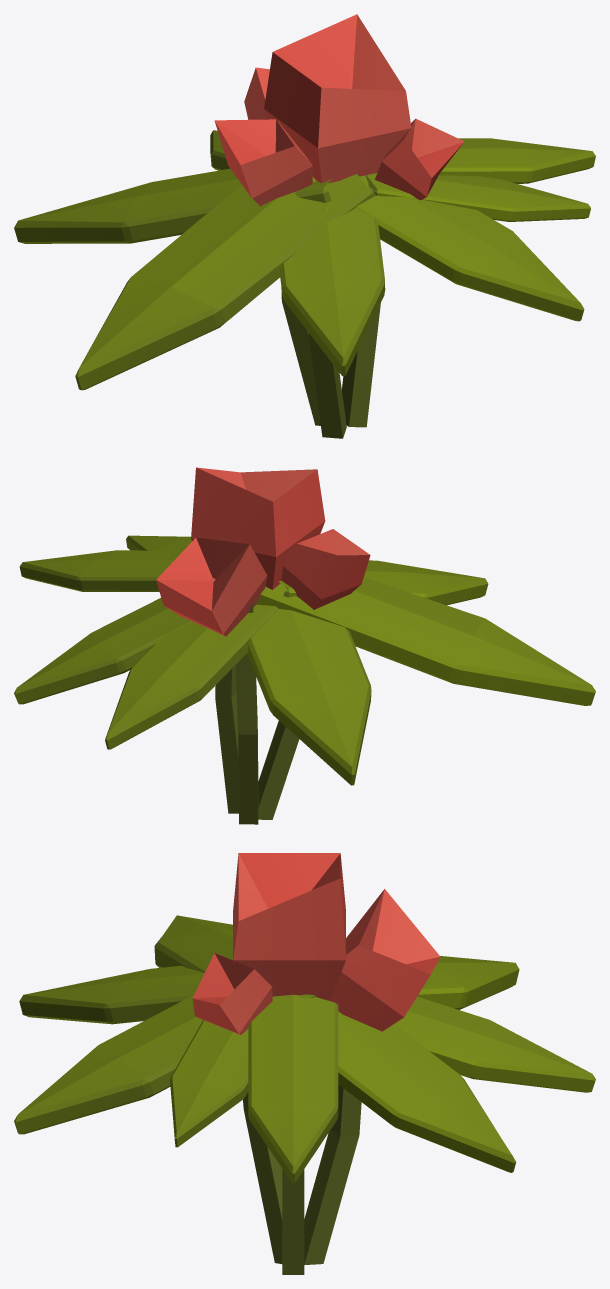
Rendered from flower2.fbx.
3 views of the same model, one above another, from view 1: azimuth 30°, elevation 25°; view 2: azimuth 150°, elevation 25°; view 3: azimuth 270°, elevation 25° (orthographic). The views are drawn at different scales.
Visible parts, largest first — view 1: Cube.001, Cube.002, Cube; view 2: Cube.001, Cube.002, Cube; view 3: Cube.001, Cube.002, Cube.
Part boxes in pixels (x1,y1,x2,y2): Cube.001: [14, 130, 595, 390]; Cube.002: [214, 14, 464, 206]; Cube: [281, 288, 380, 438]; Cube.001: [14, 535, 595, 785]; Cube.002: [156, 467, 370, 636]; Cube: [215, 603, 299, 824]; Cube.001: [14, 915, 595, 1183]; Cube.002: [192, 853, 440, 1034]; Cube: [243, 1084, 361, 1274].
Size of the model in its own units: 507 by 329 by 425.
Materials: 1 (1 with a texture image).
